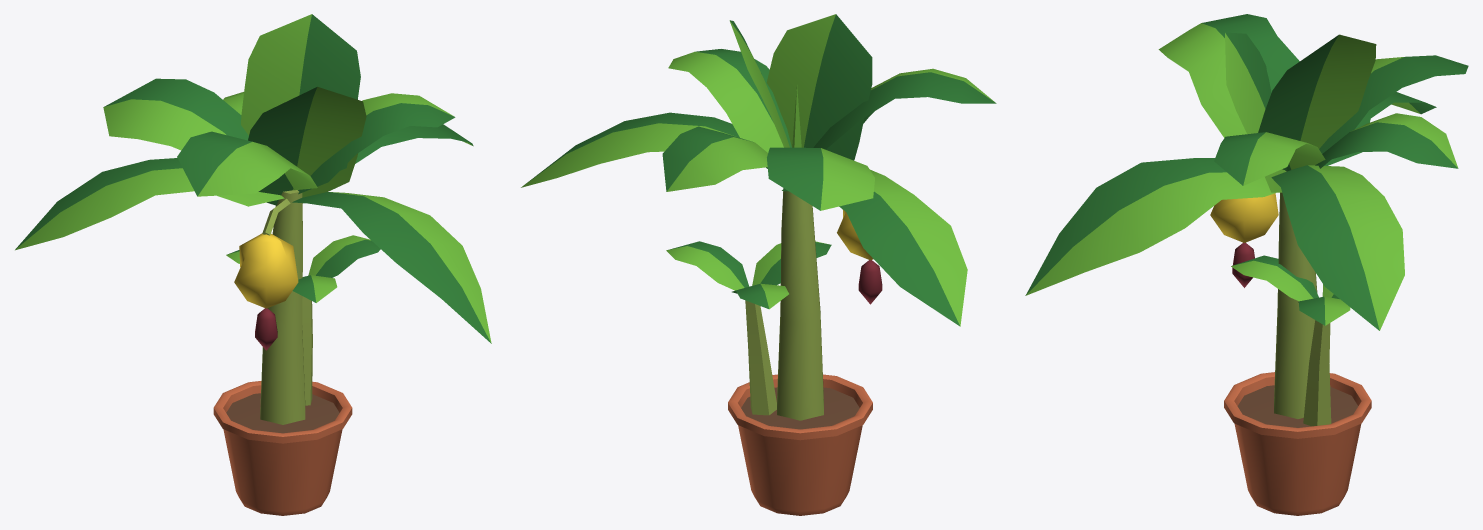
The model's file is prop_banana.glb.
The picture shows the model from 3 angles, left to right: view 1: azimuth 30°, elevation 25°; view 2: azimuth 150°, elevation 25°; view 3: azimuth 270°, elevation 25°; orthographic projection. The views are drawn at different scales.
Visible parts, largest first — view 1: prop_banana; view 2: prop_banana; view 3: prop_banana.
Boxes of the visible parts, left/top/right/bottom form: prop_banana: left=15, top=14, right=491, bottom=515; prop_banana: left=521, top=14, right=996, bottom=515; prop_banana: left=1025, top=14, right=1468, bottom=515.
Size of the model in its own units: 2.53 by 2.51 by 2.07.
